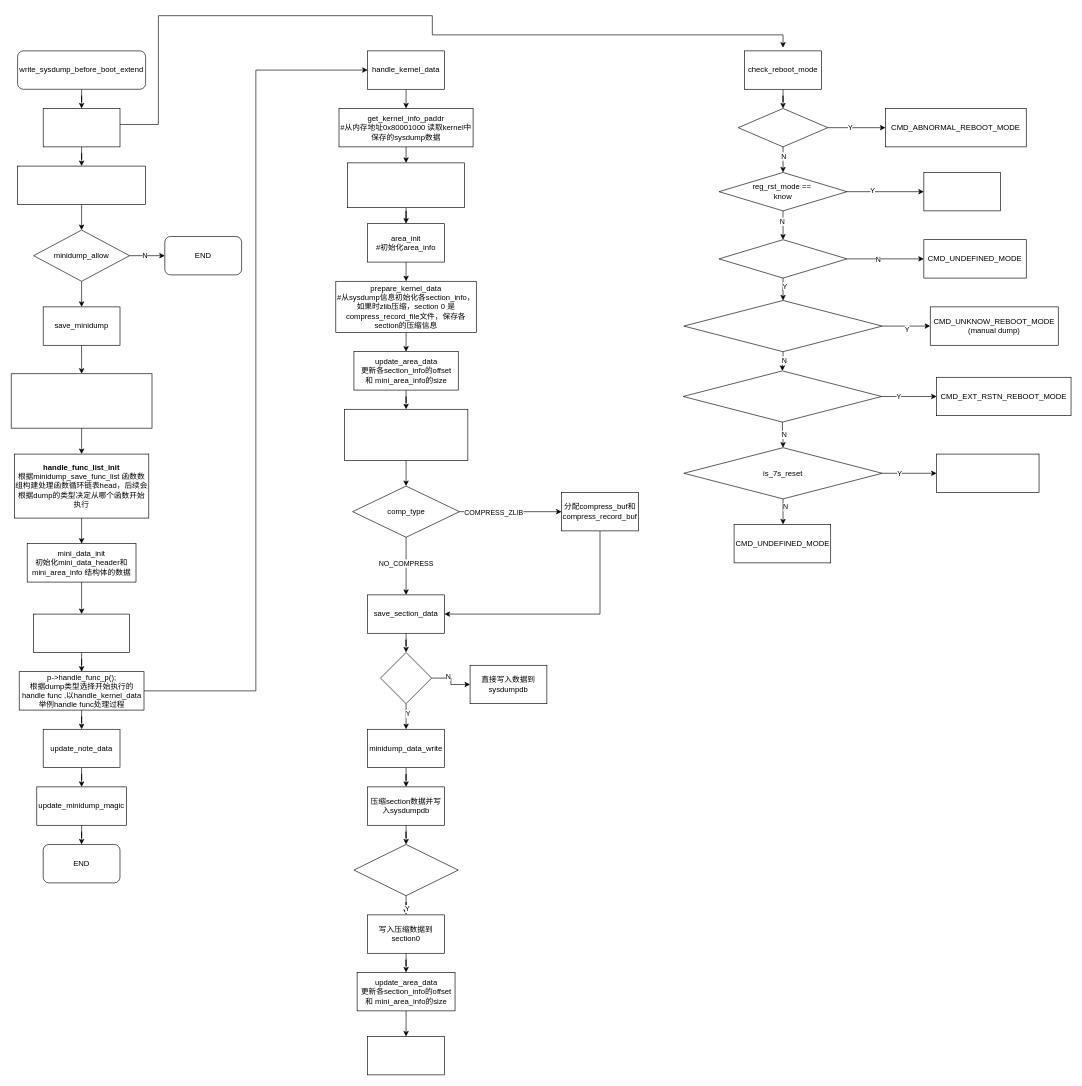
This 1082x1086 diagram has some shape labels left out. The shapes that lost their labels are listed below. From the top down, each one's box as (x1, y1, x2, y2) in pixels, then its label:
(43, 108, 120, 147): reboot_mode_check
(738, 108, 828, 147): hw_wdt_int_raw
(17, 165, 146, 204): handle_minidump_before_boot
(347, 162, 465, 208): update_except_note_info #将sysdump信息写入dump_report.txt
(923, 172, 1001, 211): return know mode
(718, 239, 847, 278): reg_rst_mode == 0
(683, 300, 882, 352): is_7s_reset_for_systemdump || rst_mode == HWRST_STATUS_NORMAL2
(11, 373, 152, 428): minidump_data_backup_in_partition 如何 sysdumpdb 分区已经保存3次 minidump,丢弃最后一次
(683, 370, 882, 422): hw_rst_mode & SW_EXT_RSTN_STATUS
(344, 409, 468, 460): save_area_data # 保存area的数据到sysdumpdb
(936, 453, 1039, 492): CMD_NORMAL_MODE
(33, 613, 130, 652): handle_note_data 处理第一个area note, 该area只有一个section (dump_report.txt)
(380, 652, 432, 704): comp_buf
(353, 844, 458, 896): compress_record_buf
(367, 1036, 444, 1075): 写入header、area info、area header、section info到sysdumpdb
